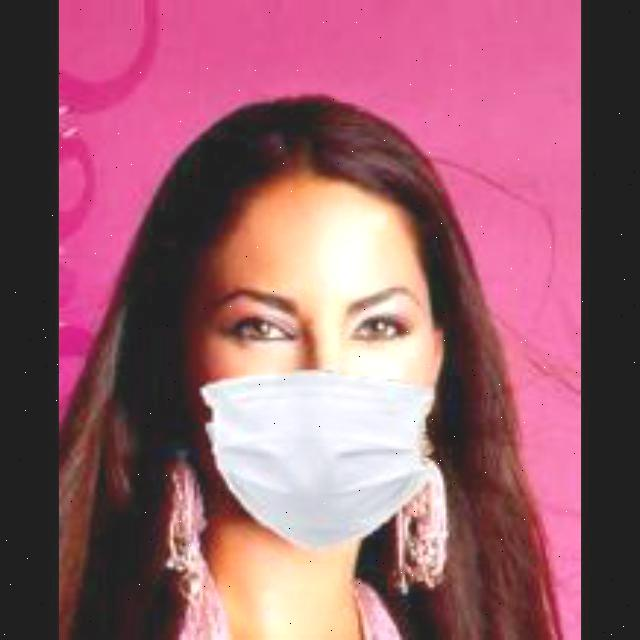suspicion: (163, 85, 509, 578)
